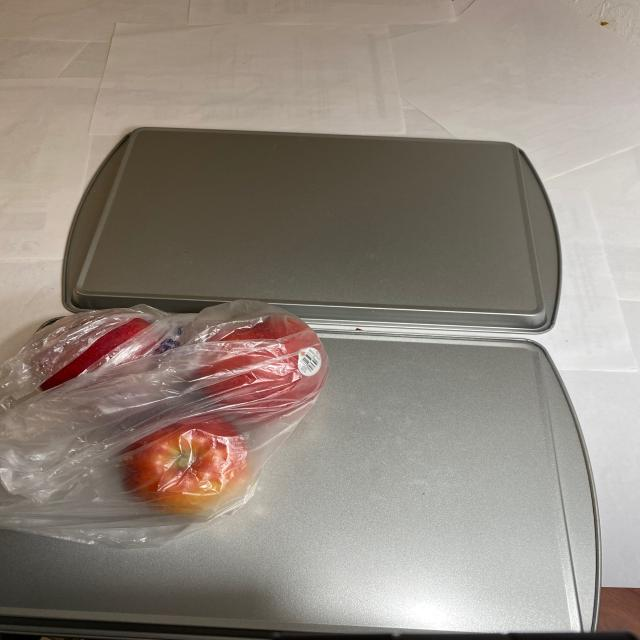apple: (37, 308, 337, 528)
